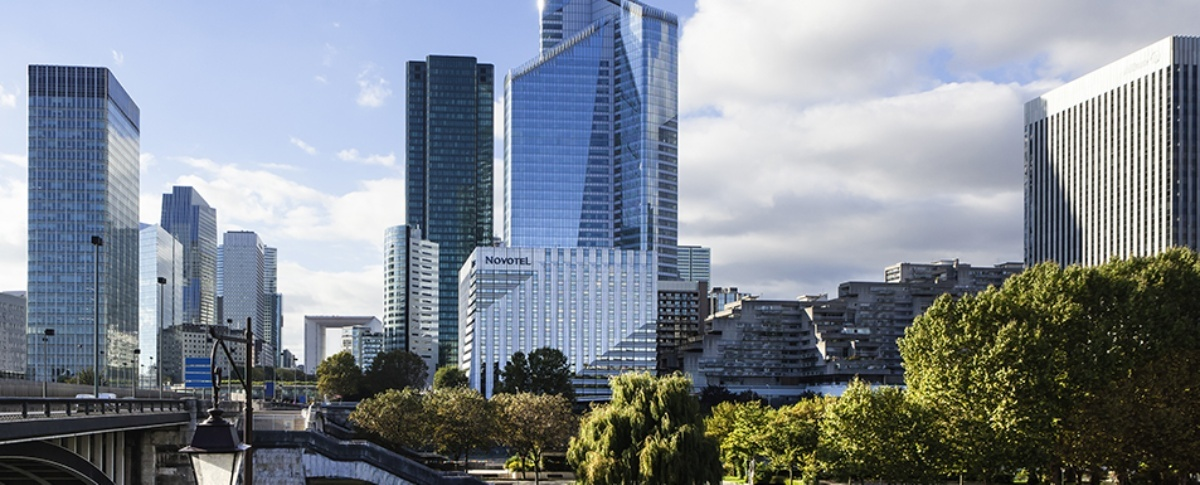text: (497, 255, 512, 265), (513, 255, 528, 265), (485, 255, 496, 265), (529, 255, 532, 265)
